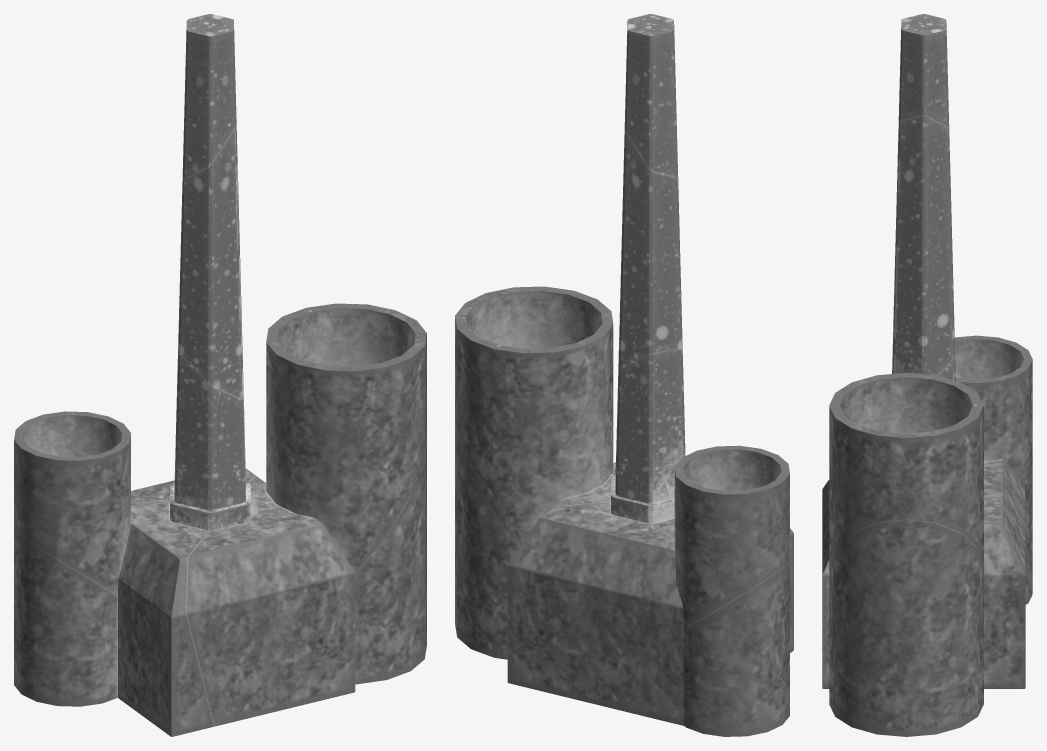
Rendered from vixoz_tower.fbx.
The picture shows the model from 3 angles, left to right: view 1: azimuth 30°, elevation 25°; view 2: azimuth 150°, elevation 25°; view 3: azimuth 270°, elevation 25°; orthographic projection. The views are drawn at different scales.
Parts seen in each view (by area): view 1: Object007, Object003, Object001, Object005, Cylinder003, Gengon001, Cylinder001, Object011, Object009, Box001; view 2: Object007, Box001, Object001, Cylinder003, Gengon001, Object011, Cylinder001, Object009, Object003, Object005; view 3: Cylinder001, Object007, Gengon001, Box001, Object001, Object009, Object003, Cylinder003.
Boxes of the visible parts, x1,y1,x2,y2 form: Object007: (266, 303, 426, 573); Object003: (186, 475, 355, 726); Object001: (14, 411, 130, 594); Object005: (118, 503, 214, 736); Cylinder003: (14, 529, 117, 706); Gengon001: (178, 106, 243, 399); Cylinder001: (355, 425, 426, 684); Object011: (170, 346, 250, 530); Object009: (183, 14, 236, 179); Box001: (131, 468, 254, 503); Object007: (455, 286, 613, 546); Box001: (507, 502, 683, 725); Object001: (674, 445, 789, 628); Cylinder003: (683, 562, 789, 736); Gengon001: (618, 110, 682, 376); Object011: (611, 348, 685, 523); Cylinder001: (455, 407, 519, 659); Object009: (625, 14, 677, 177); Object003: (555, 462, 615, 506); Object005: (654, 518, 793, 652); Cylinder001: (829, 519, 983, 736); Object007: (829, 372, 983, 565); Gengon001: (892, 115, 954, 375); Box001: (984, 458, 1025, 688); Object001: (954, 335, 1032, 510); Object009: (898, 14, 949, 140); Object003: (822, 485, 829, 688); Cylinder003: (1025, 484, 1032, 604).
Bounding box in the file's own units: 637 × 1106 × 339.
